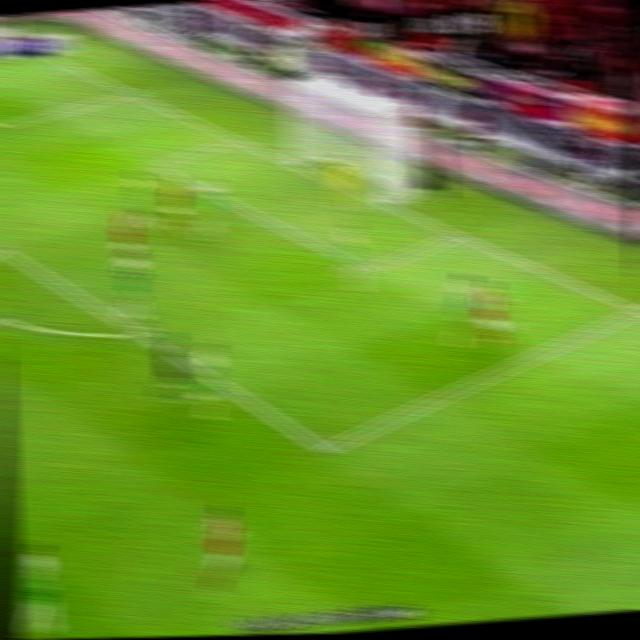bigarea_bottom_inner: (308, 430, 346, 467)
bigarea_bottom_outter: (625, 296, 640, 321)
bigarea_top_outter: (118, 81, 146, 102)
bottom_arc_area_intersection: (124, 317, 156, 346)
smallarea_bottom_inner: (356, 255, 386, 281)
smallarea_bottom_outter: (442, 220, 472, 246)
smallarea_top_inner: (142, 152, 172, 178)
smallarea_top_outter: (224, 127, 252, 150)
